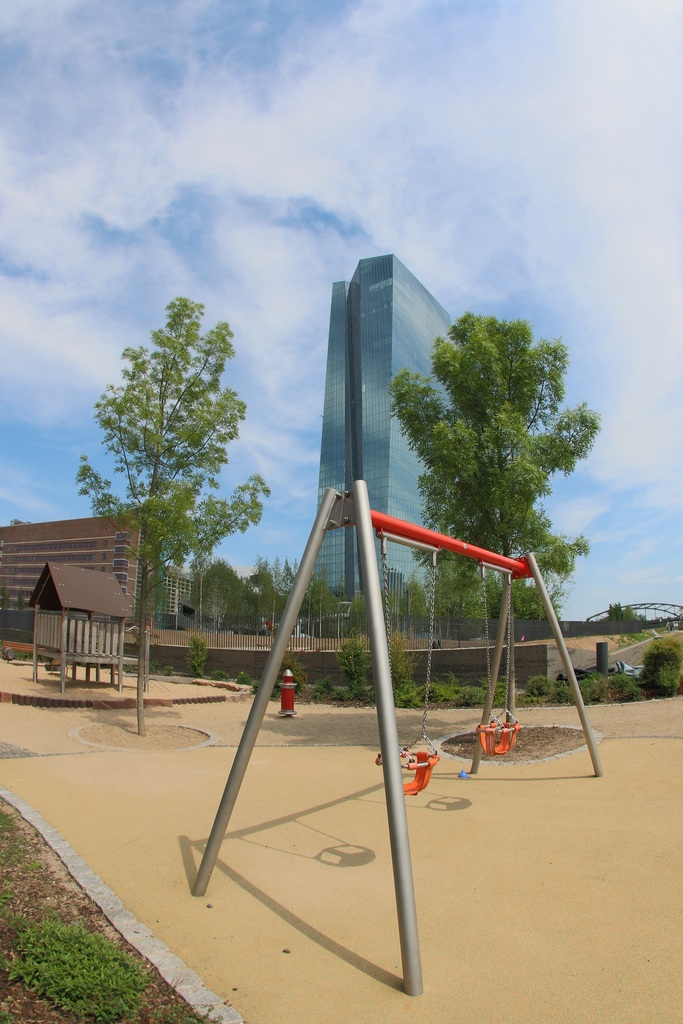Tree: (389, 311, 598, 772), (72, 290, 273, 738), (206, 555, 567, 644), (604, 598, 645, 624)
